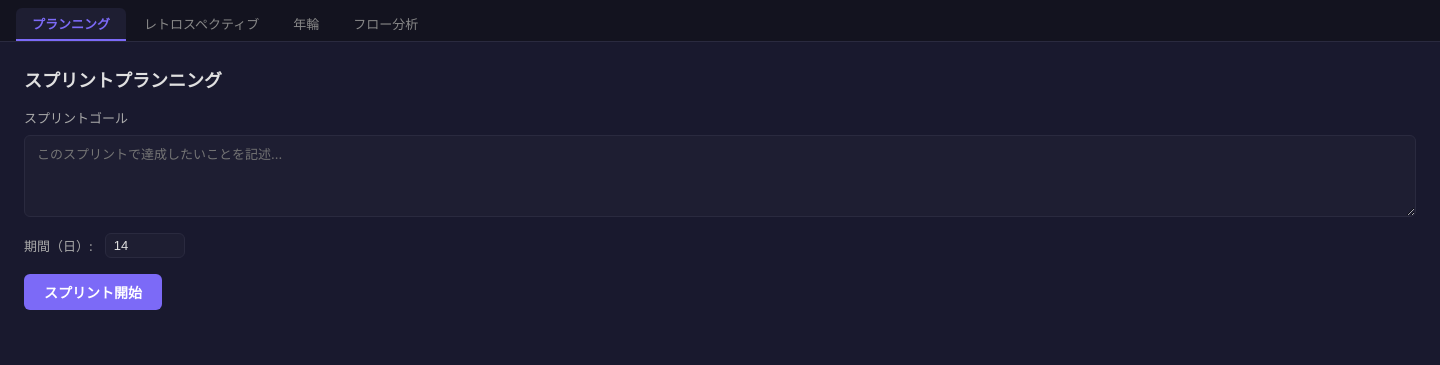
Test case: SprintScreen › 年輪 タブ: sprintHistory データあり状態でレンダリングされる
What coordinates should you click on to do the following:
click the button "年輪"
I would click on:
 (306, 24)
Its box is [277,8,335,41].
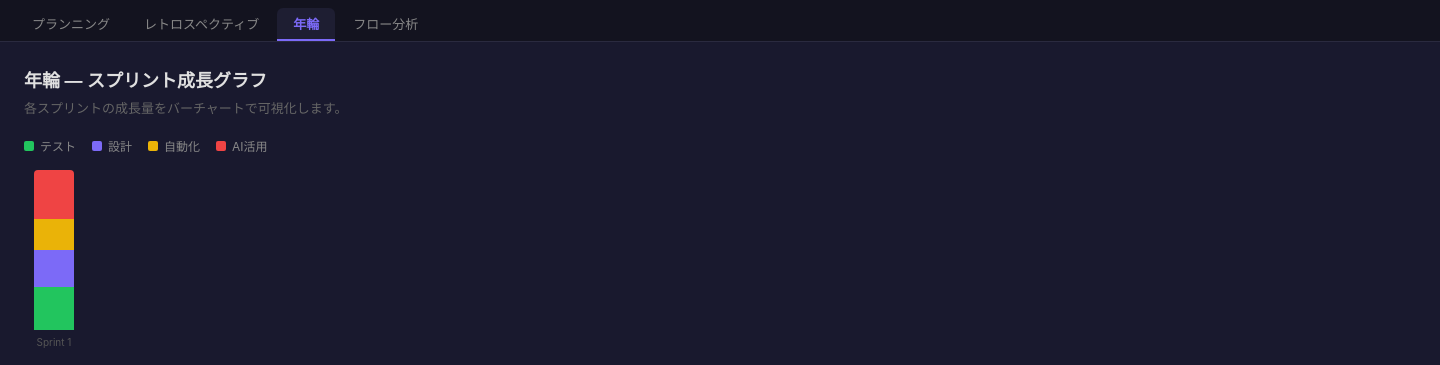
expect the text "Sprint 1" is shown: met, box [36,336,71,348]
